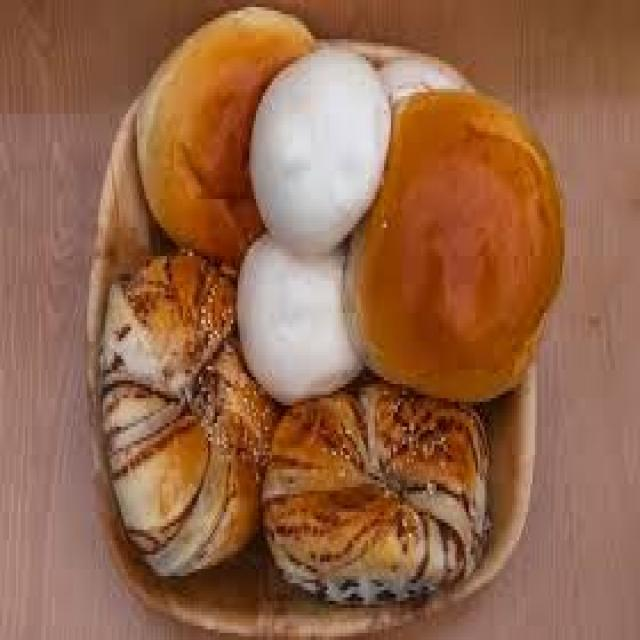organic waste: (338, 85, 562, 402), (98, 246, 279, 580), (256, 380, 489, 608), (132, 4, 311, 270), (247, 42, 388, 252), (233, 231, 368, 398), (377, 53, 462, 103)
